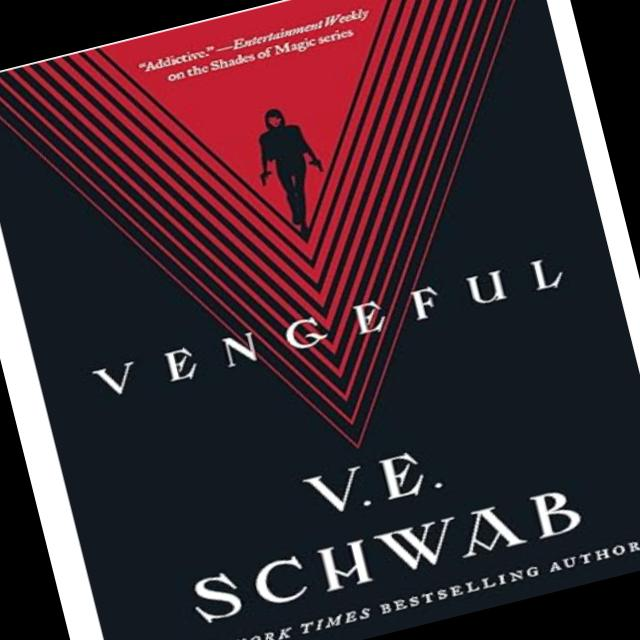titles-or-authors: (157, 406, 595, 639), (80, 239, 578, 410)
